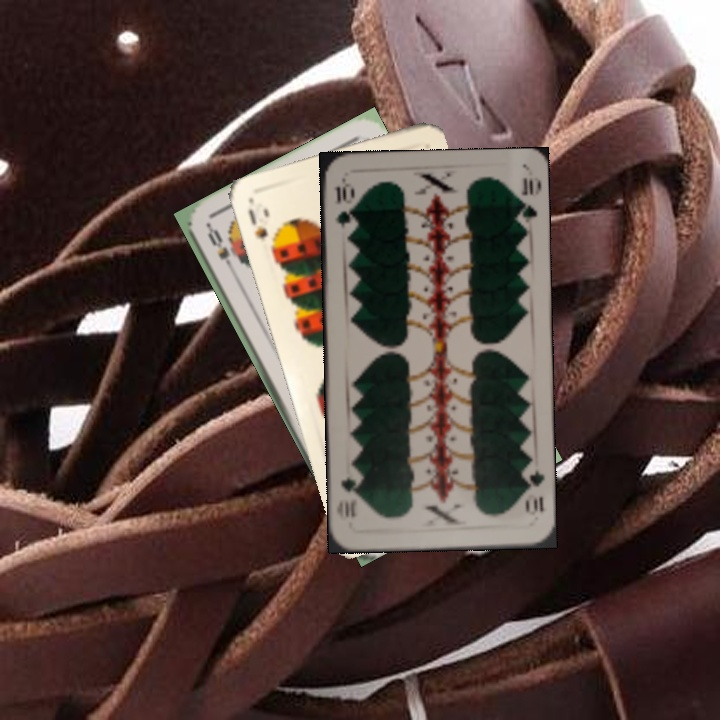G10: (520, 467, 547, 518), (331, 177, 355, 232)
S10: (244, 204, 270, 242)
SO: (203, 222, 239, 277)
